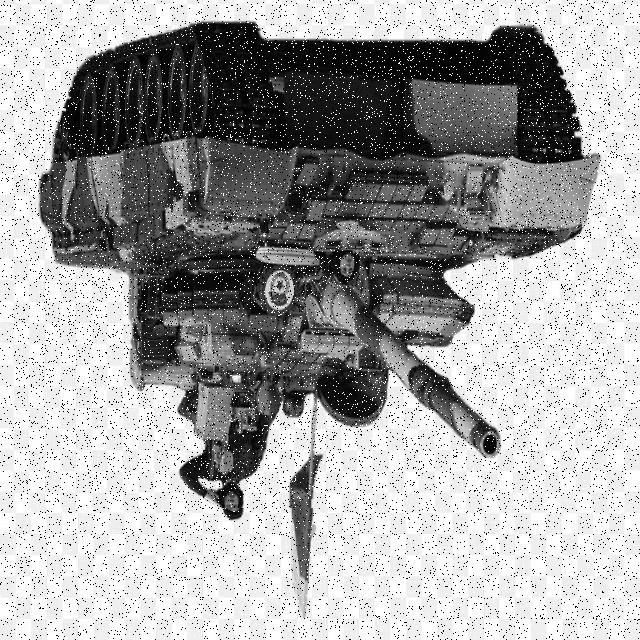MIL_MBT: (12, 31, 613, 507)
